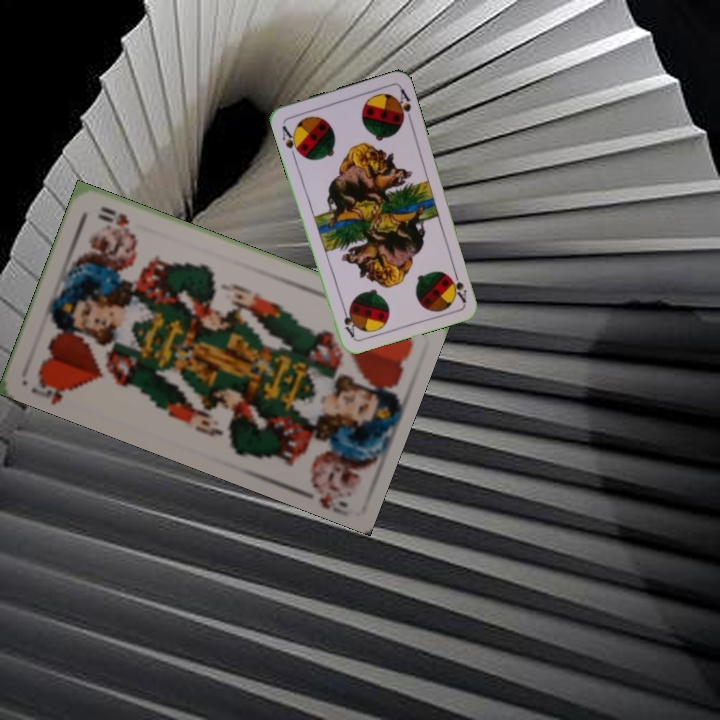HO: (27, 371, 77, 407)
SA: (278, 122, 303, 159), (446, 265, 469, 305)
